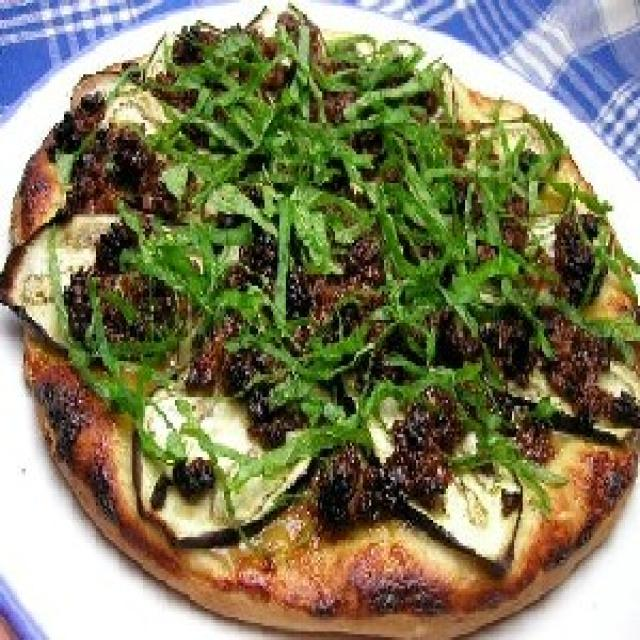汉堡快餐: (13, 20, 640, 640)
